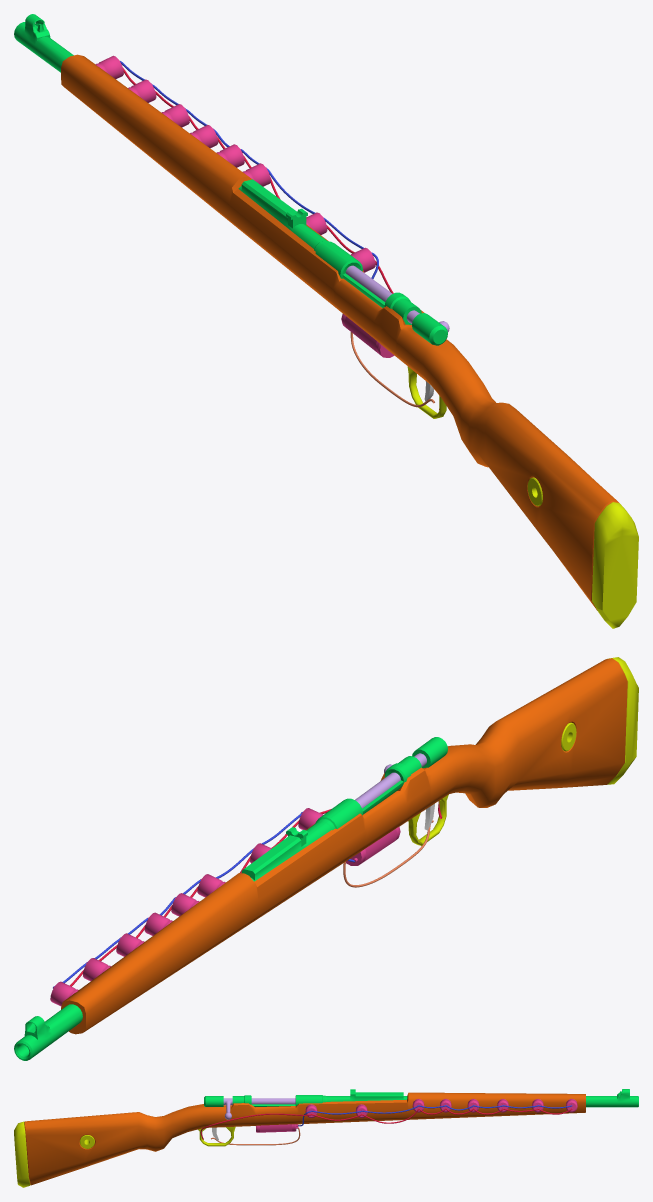
Rendered from Kar98 smooth 1.fbx.
The picture shows the model from 3 angles, top to bottom: view 1: azimuth 30°, elevation 25°; view 2: azimuth 150°, elevation 25°; view 3: azimuth 270°, elevation 25°; orthographic projection. The views are drawn at different scales.
Parts seen in each view (by area): view 1: Rifle, BlakBarrelPart2, kundak; view 2: Rifle, BlakBarrelPart2, kundak, Barrel, TriggerAround, BlakBarrelPart2.001; view 3: Rifle, BlakBarrelPart2, kundak, Barrel, TriggerAround, wire1, BlakBarrelPart2.001, Flaps.002, wire1.002, MetalPart.
Boxes of the visible parts, left/top/right/bottom form: Rifle: left=61, top=54, right=618, bottom=610; BlakBarrelPart2: left=14, top=14, right=421, bottom=324; kundak: left=592, top=502, right=638, bottom=628; Rifle: left=61, top=658, right=627, bottom=1034; BlakBarrelPart2: left=14, top=756, right=421, bottom=1060; kundak: left=607, top=657, right=638, bottom=784; Barrel: left=355, top=753, right=426, bottom=808; TriggerAround: left=408, top=794, right=448, bottom=845; BlakBarrelPart2.001: left=412, top=737, right=447, bottom=768; Rifle: left=24, top=1092, right=585, bottom=1185; BlakBarrelPart2: left=232, top=1089, right=638, bottom=1107; kundak: left=14, top=1121, right=30, bottom=1187; Barrel: left=223, top=1098, right=295, bottom=1119; TriggerAround: left=198, top=1126, right=235, bottom=1146; wire1: left=200, top=1113, right=311, bottom=1139; BlakBarrelPart2.001: left=204, top=1096, right=223, bottom=1106; Flaps.002: left=260, top=1124, right=292, bottom=1131; wire1.002: left=211, top=1127, right=300, bottom=1145; MetalPart: left=79, top=1135, right=94, bottom=1148.
Size of the model in its own units: 65.69 by 209 by 1203.
